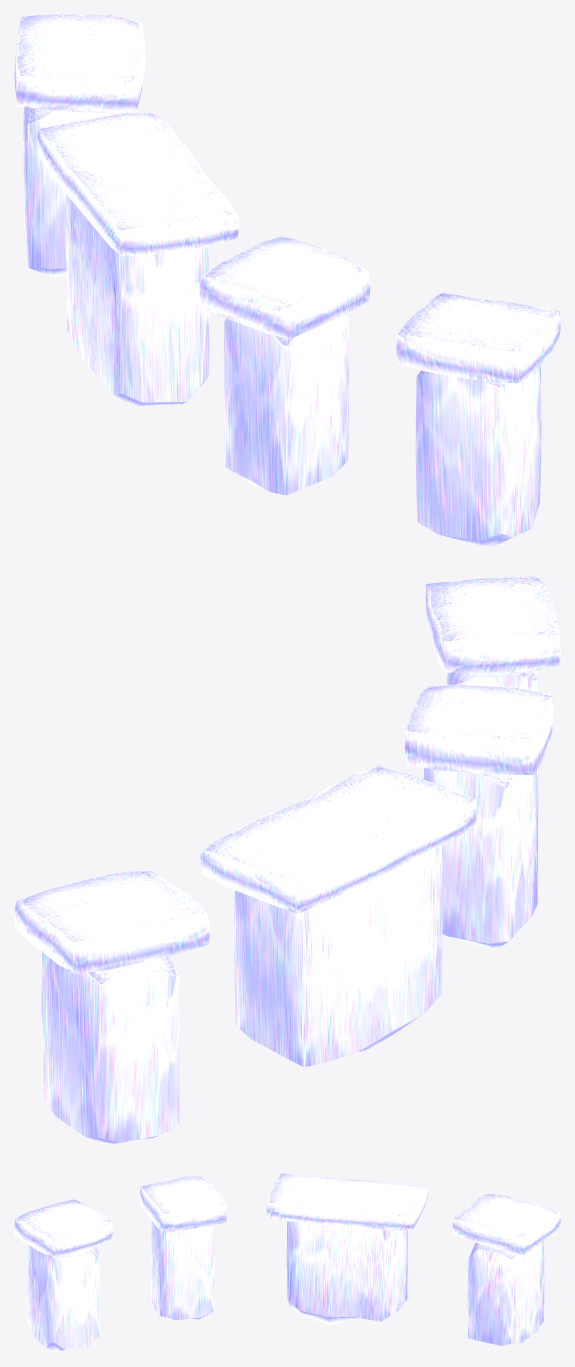
The model's file is stepping_stones_curved_SM.fbx.
The picture shows the model from 3 angles, top to bottom: view 1: azimuth 30°, elevation 25°; view 2: azimuth 150°, elevation 25°; view 3: azimuth 270°, elevation 25°; orthographic projection. The views are drawn at different scales.
Parts seen in each view (by area): view 1: stepping_stones_curved_SM; view 2: stepping_stones_curved_SM; view 3: stepping_stones_curved_SM.
Part boxes in pixels (x1=…): stepping_stones_curved_SM: x1=14, y1=14, x2=560, y2=547; stepping_stones_curved_SM: x1=14, y1=576, x2=560, y2=1144; stepping_stones_curved_SM: x1=14, y1=1173, x2=560, y2=1352.
Size of the model in its own units: 290 by 969 by 258.
4 materials, 4 textured.
